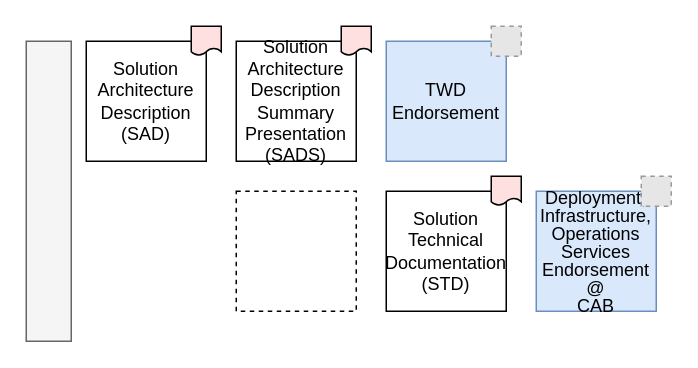
This 698x368 diagram has some shape labels left out. Grey dashed boxes stand in for pictures. The shapes that lost their labels are listed below. From the top down, each one's box as (x1, y1, x2, y2) in pixels, then its label:
(25, 40, 71, 341): Design Services Engagement
(235, 190, 356, 311): Work Item Tactical Decisions
